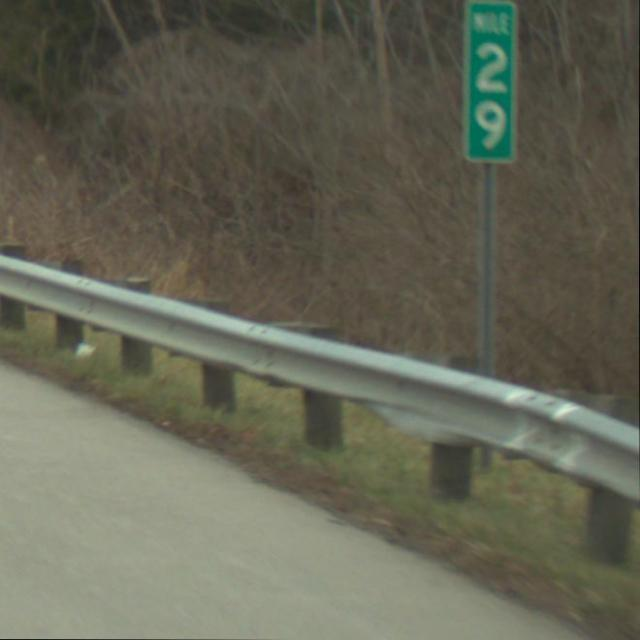Guard rail: (0, 236, 640, 576)
